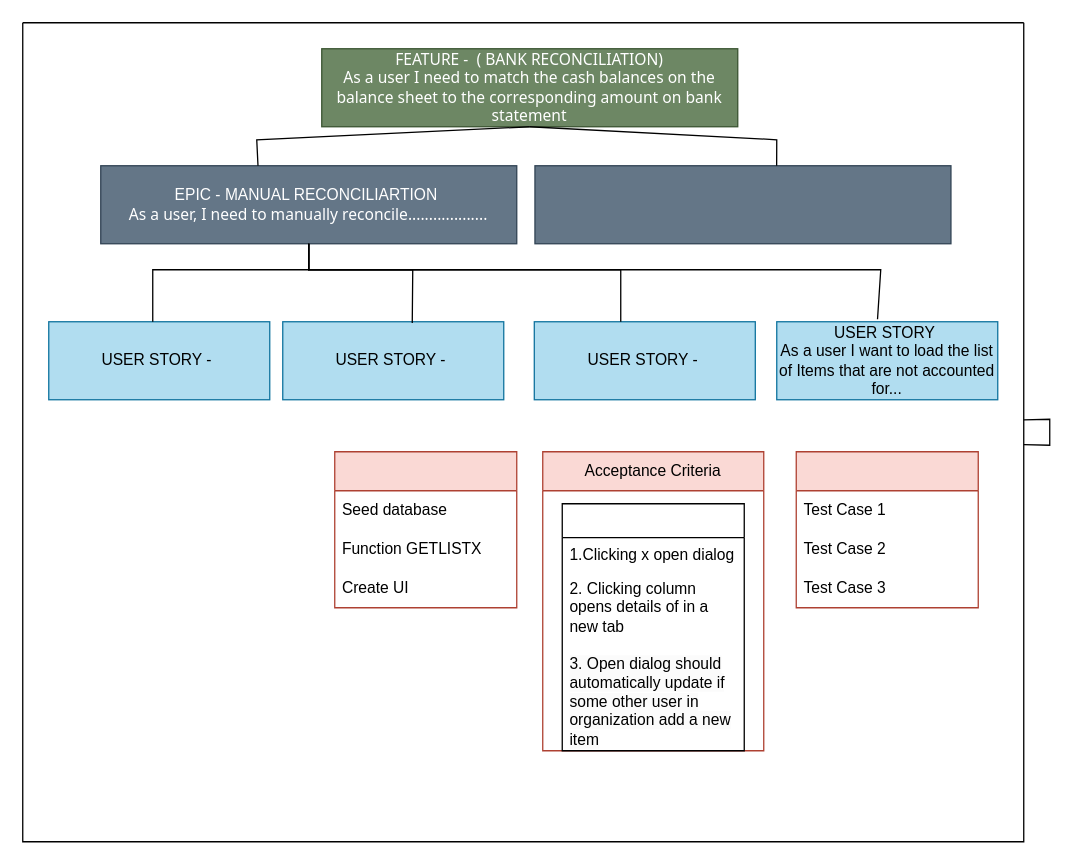
The diagram is 1074 pixels wide and 864 high, and some of its shapes have lost their labels. Here are the shapes that lost their labels. From the top down, the box of each, then its label:
(534, 164, 951, 244): EPIC -AUTO RECONCILIARTION
(333, 450, 517, 608): Tasks
(795, 450, 978, 608): Test Cases
(561, 502, 744, 751): Its done when:
